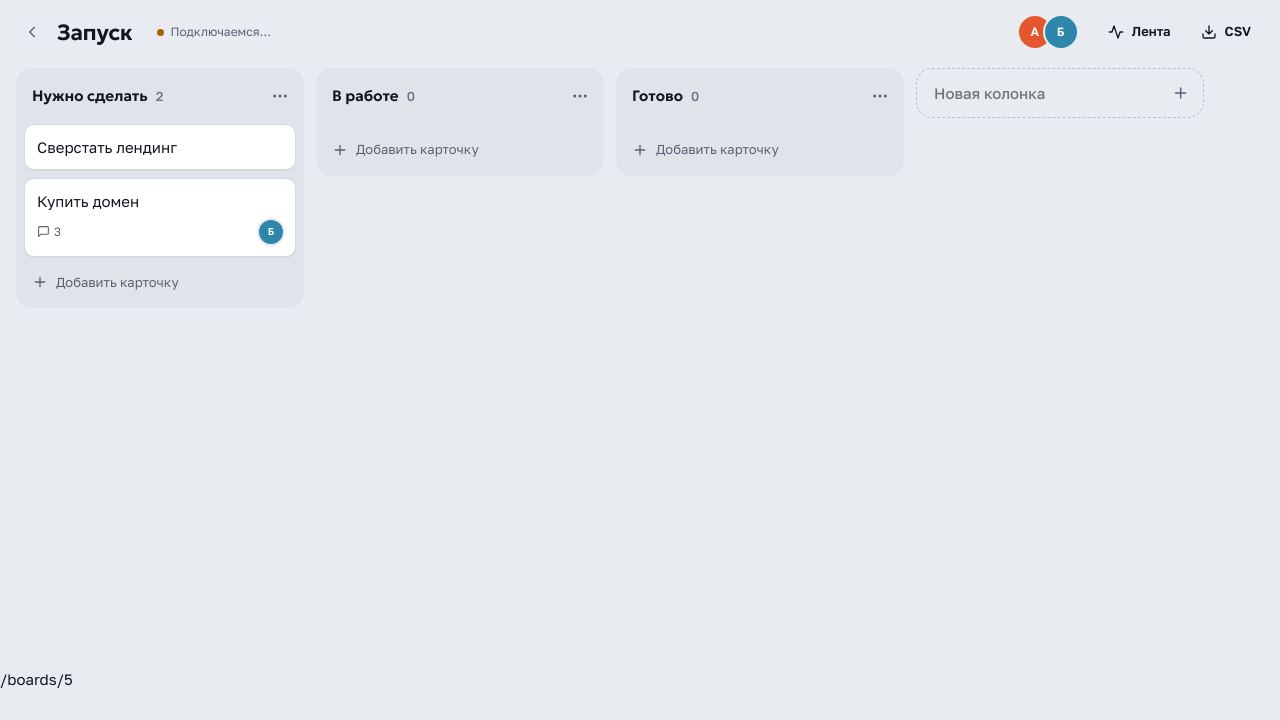
Scenario: участники: владелец приглашает по email
Click the button named "Участники: 2".
click(1048, 32)  # box x1=1013 y1=12 x2=1083 y2=52
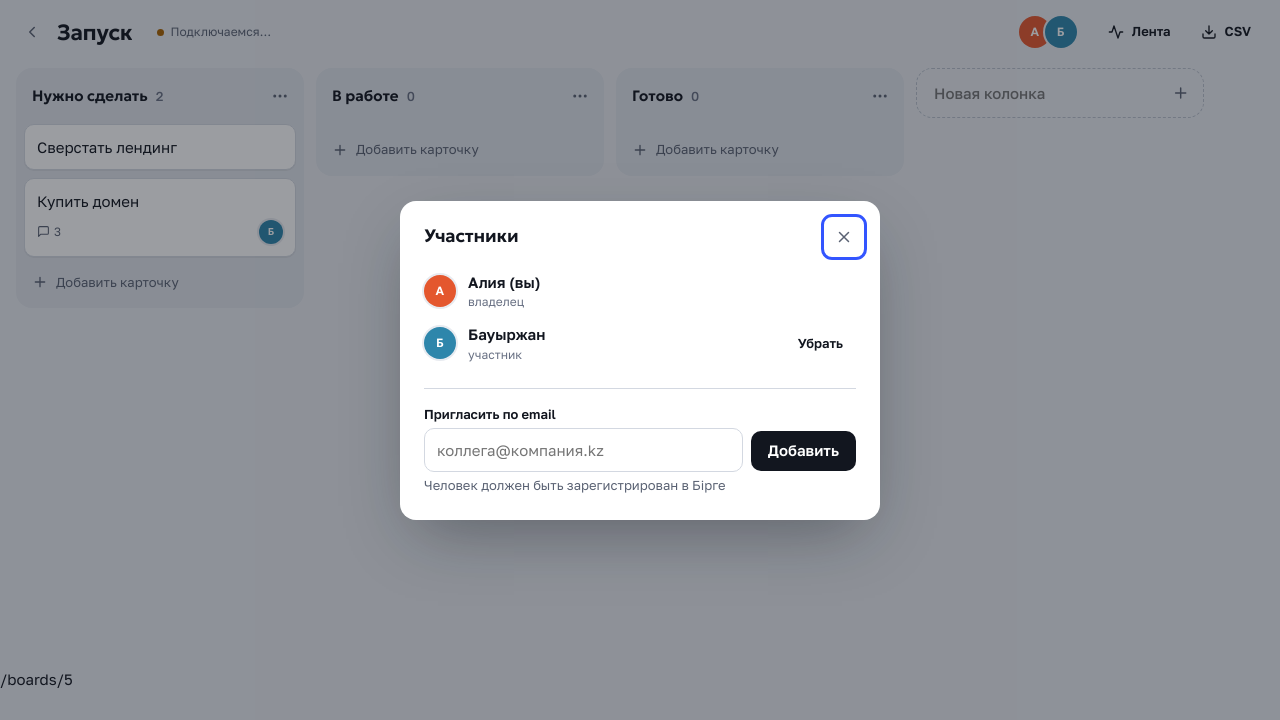
Type "k@test.kz" into the field labelled "Пригласить по email".
click(583, 450); type("k@test.kz")  # box x1=424 y1=428 x2=743 y2=472
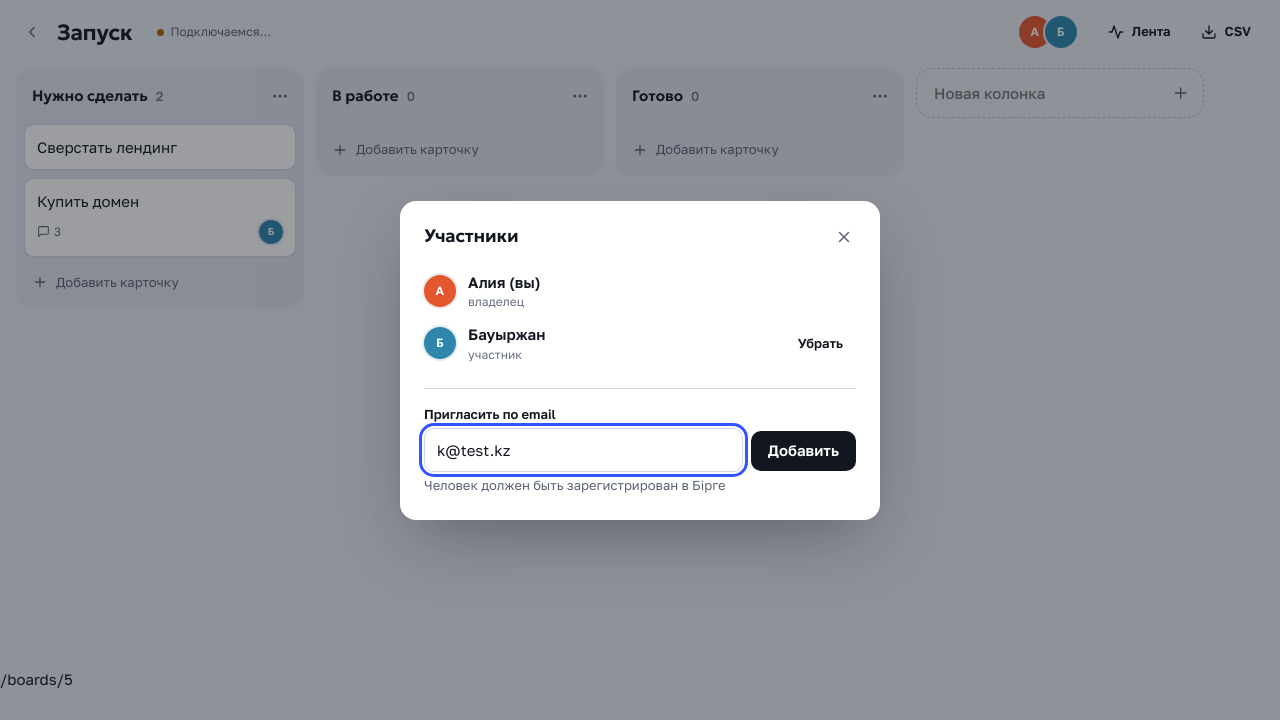
Click the button "Добавить".
click(803, 450)  # box x1=751 y1=430 x2=856 y2=470
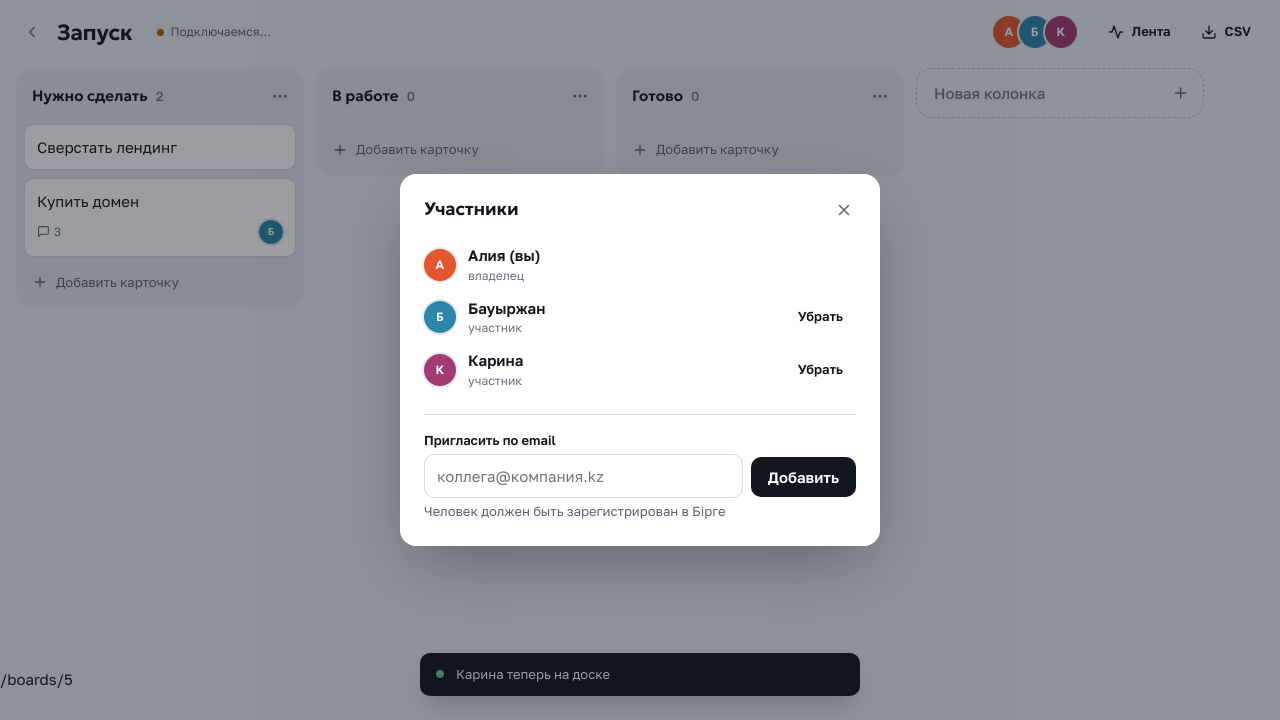
Expected: the text "Карина" is shown, x1=468 y1=351 x2=523 y2=369
